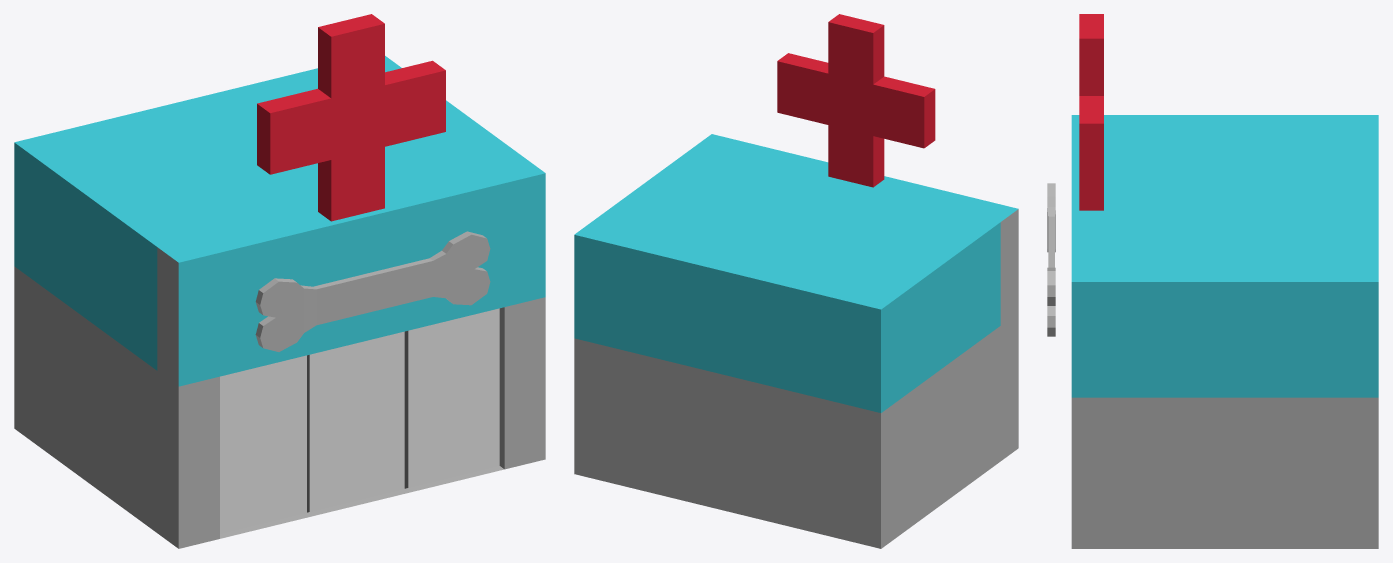
File: Dierenziekenhuis.fbx
3 views of the same model, side by side, from view 1: azimuth 30°, elevation 25°; view 2: azimuth 150°, elevation 25°; view 3: azimuth 270°, elevation 25° (orthographic). The views are drawn at different scales.
Visible parts, largest first — view 1: ziekenhuis; view 2: ziekenhuis; view 3: ziekenhuis.
Part boxes in pixels (left/top/right/bottom): ziekenhuis: left=14, top=14, right=545, bottom=548; ziekenhuis: left=574, top=14, right=1018, bottom=548; ziekenhuis: left=1047, top=14, right=1378, bottom=548.
Size of the model in its own units: 175 by 214 by 146.
